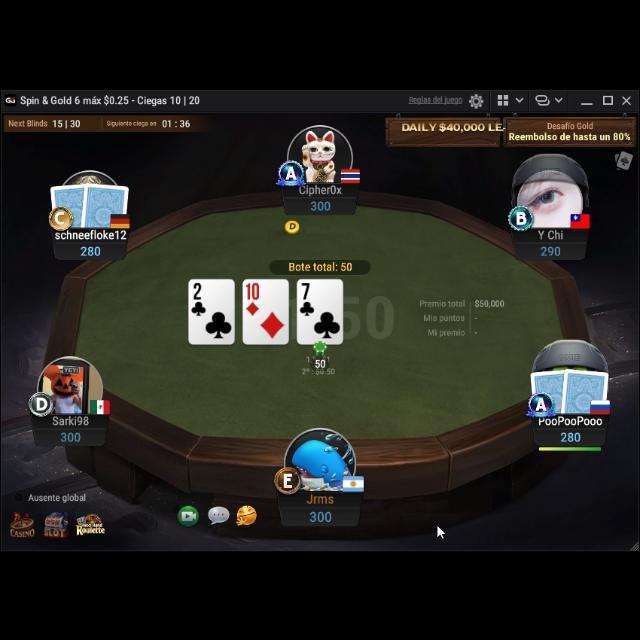2c: (190, 280, 208, 316)
7c: (298, 279, 316, 315)
Td: (244, 278, 262, 316)
card_back: (560, 364, 610, 418), (80, 178, 130, 228), (47, 180, 91, 228), (529, 365, 571, 413)
dealer: (284, 216, 300, 234)
pot_text: (288, 258, 354, 272)
stack_text: (307, 506, 333, 522), (58, 427, 82, 441), (308, 196, 332, 210), (538, 241, 562, 255), (560, 428, 582, 442), (80, 242, 102, 255)
